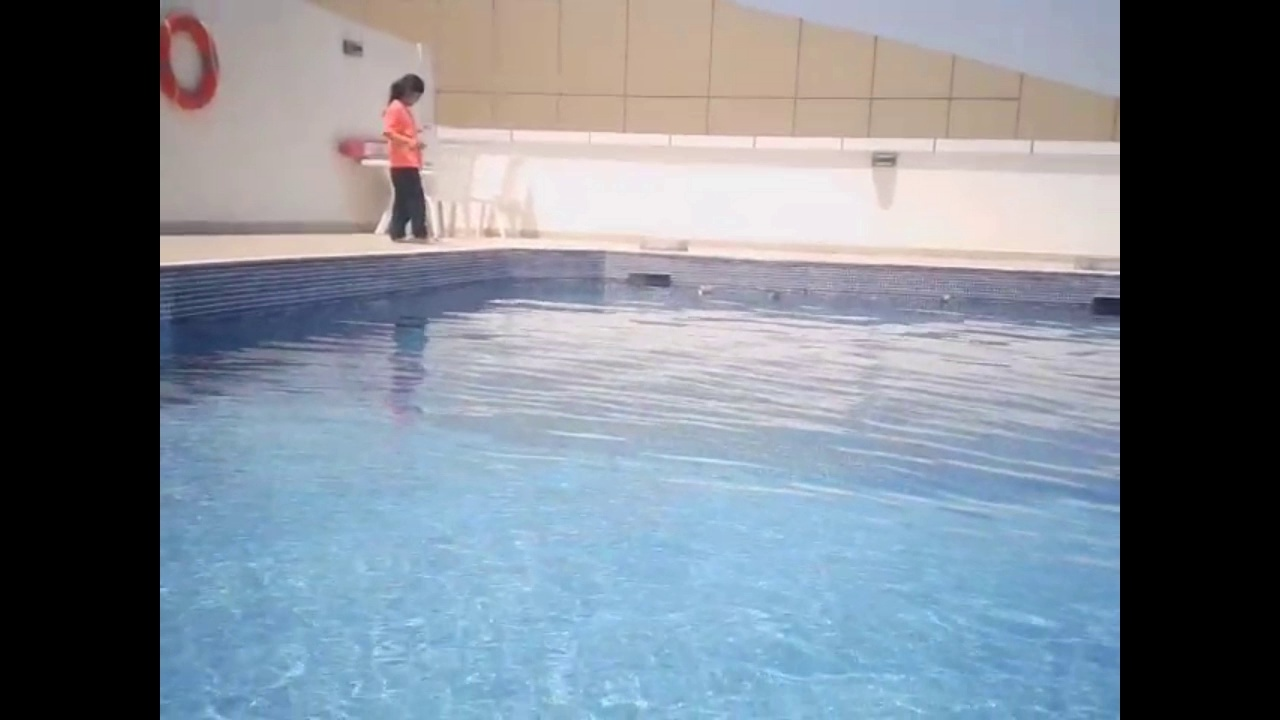debris: (694, 281, 714, 294), (936, 290, 952, 303)
